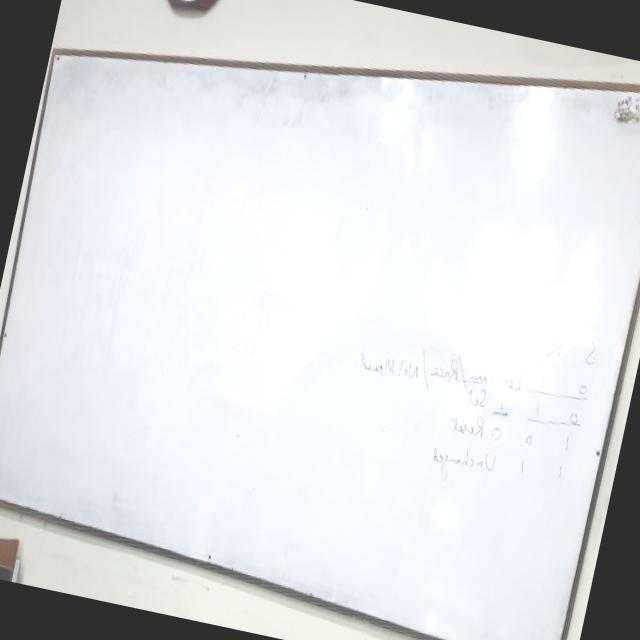White-board: (0, 55, 640, 640)
